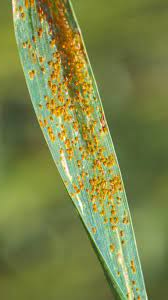Leaf Rust: (35, 20, 138, 262)
